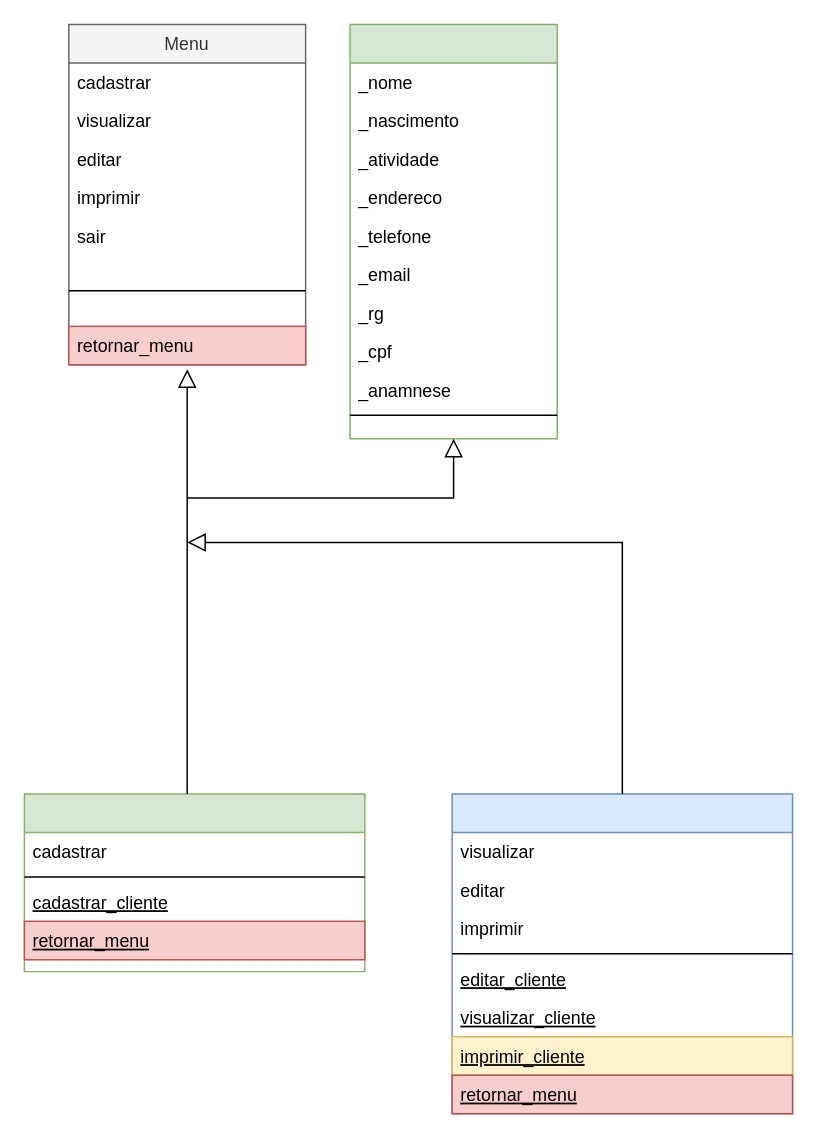
Some shapes in this 817 by 1138 pixel diagram are drawn without their labels. Here are the shapes that lost their labels. From the top down, the box of each, then its label:
(349, 23, 557, 439): Cliente
(23, 793, 365, 972): CadastroCliente(Menu, Cliente)
(451, 793, 793, 1114): EditorCliente(Menu, Cliente)
